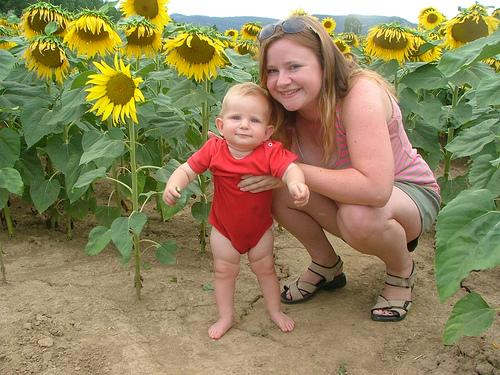sunflower: (83, 57, 145, 126), (165, 29, 229, 81), (360, 19, 423, 63), (65, 9, 120, 58), (22, 35, 73, 84), (441, 9, 499, 47), (19, 2, 70, 40), (116, 0, 173, 29)
